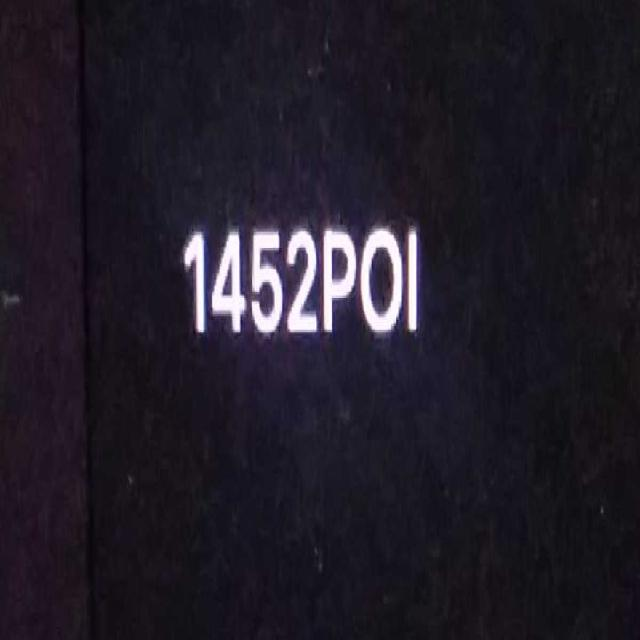license_plate: (175, 195, 421, 372), (318, 220, 356, 334)
